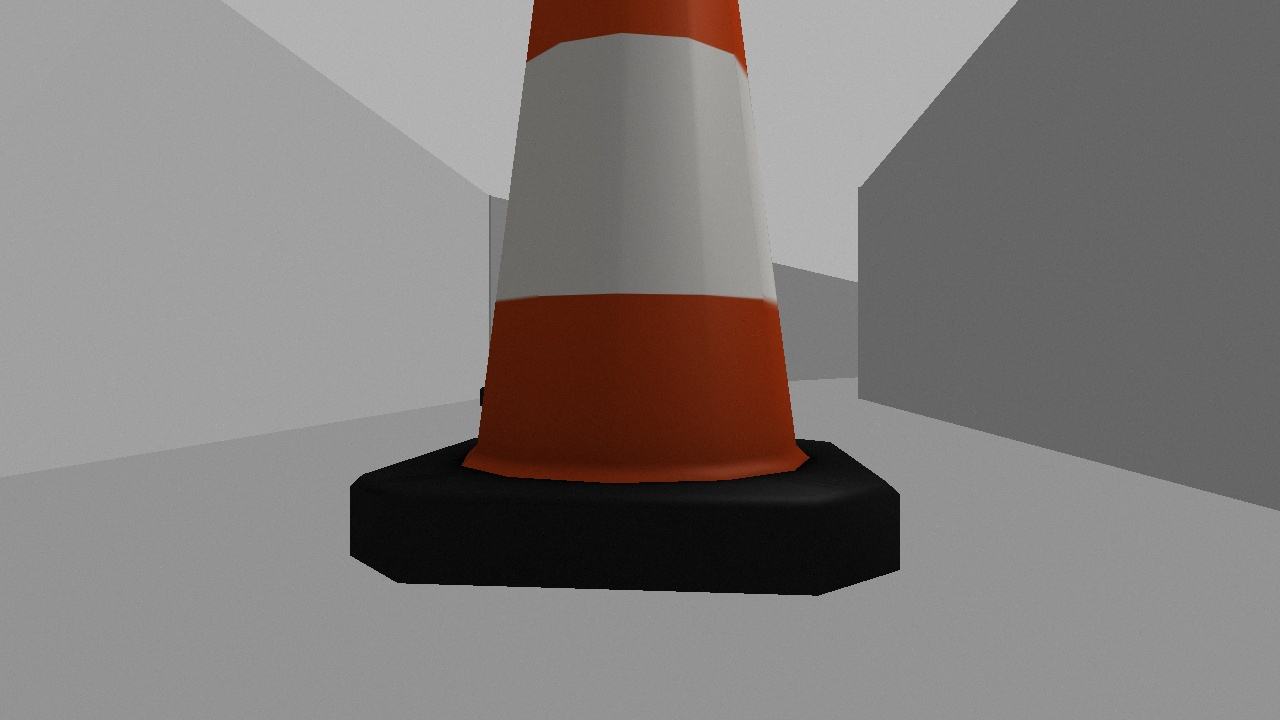barricade: (351, 1, 901, 595)
